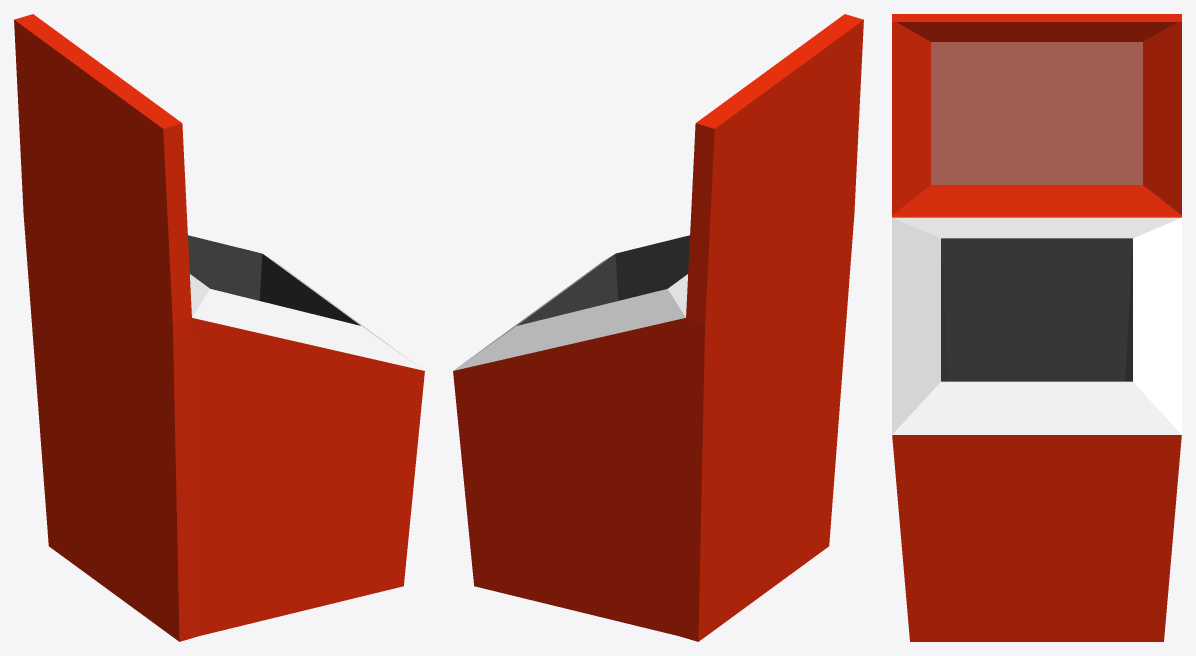
Rendered from Red_tube.fbx.
3 renders of one model, left to right at view 1: azimuth 30°, elevation 25°; view 2: azimuth 150°, elevation 25°; view 3: azimuth 270°, elevation 25°, orthographic. The views are drawn at different scales.
Visible parts, largest first — view 1: Cube.003; view 2: Cube.003; view 3: Cube.003.
Boxes of the visible parts, box(x1,y1,x2,y2) form: Cube.003: box(14, 14, 424, 641); Cube.003: box(453, 14, 863, 641); Cube.003: box(892, 14, 1181, 641).
Bounding box in the file's own units: 231 × 445 × 228.
